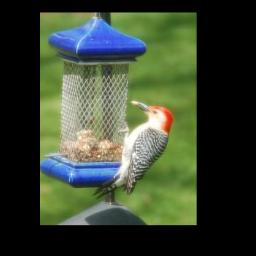Woodpecker: (87, 96, 173, 203)
